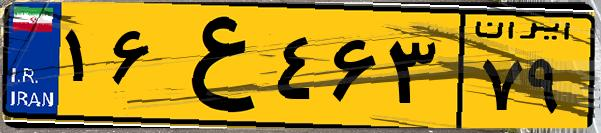1: (57, 26, 110, 100)
3: (385, 28, 445, 110)
4: (270, 28, 330, 110)
6: (330, 28, 385, 110), (110, 28, 158, 98)
7: (475, 38, 525, 113)
9: (525, 38, 570, 115)
ع: (158, 12, 270, 120)
